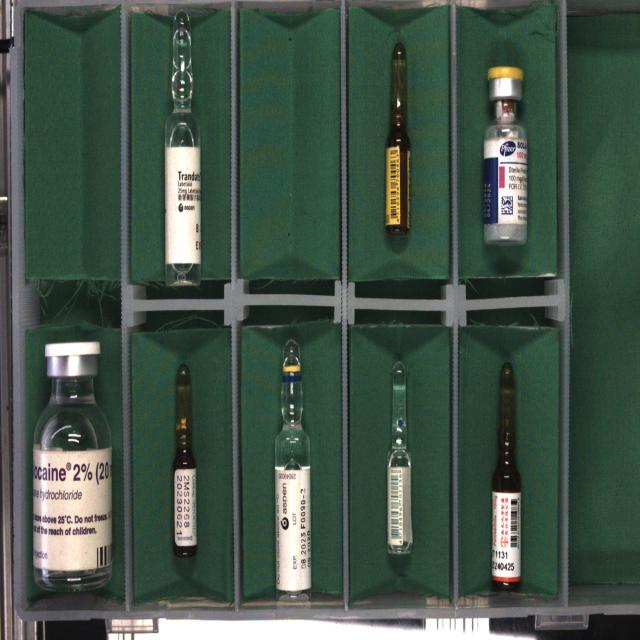Vials: (33, 341, 112, 589), (483, 66, 527, 244)
